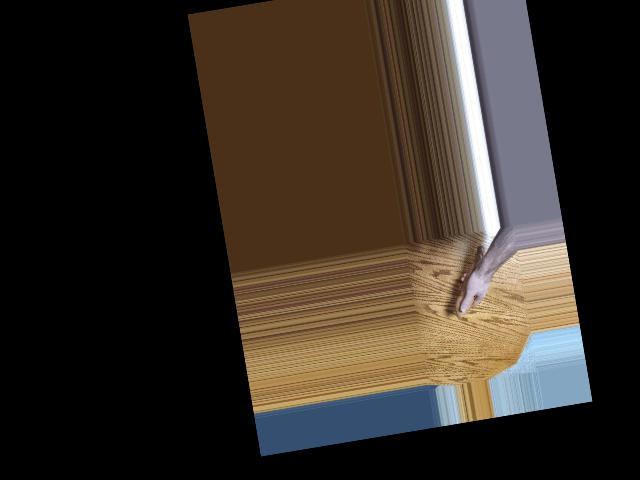sweet_potato: (442, 233, 496, 319)
